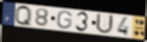3: (74, 12, 93, 33)
4: (115, 17, 131, 37)
8: (34, 8, 51, 27)
G: (56, 10, 74, 29)
Q: (14, 4, 33, 28)
U: (95, 13, 115, 35)
